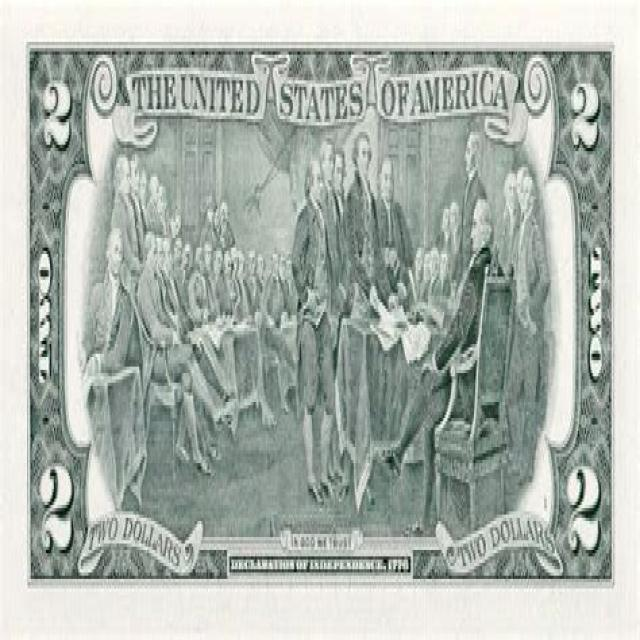Two: (1, 6, 636, 630)
